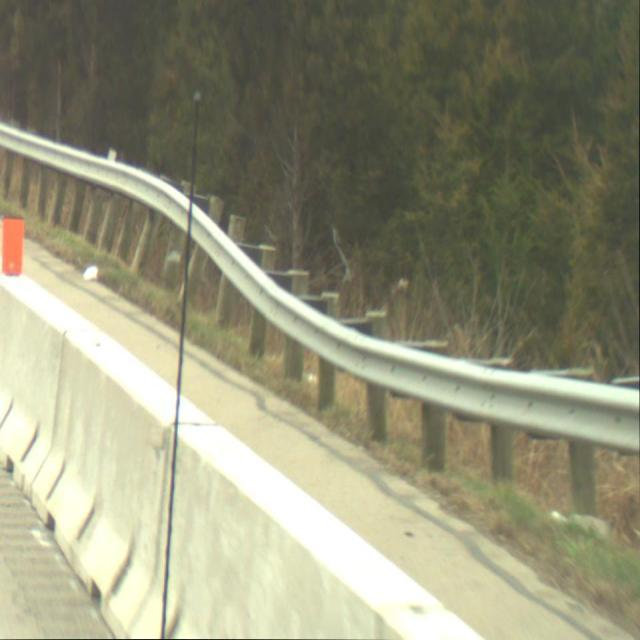Guard rail: (1, 120, 640, 534)
